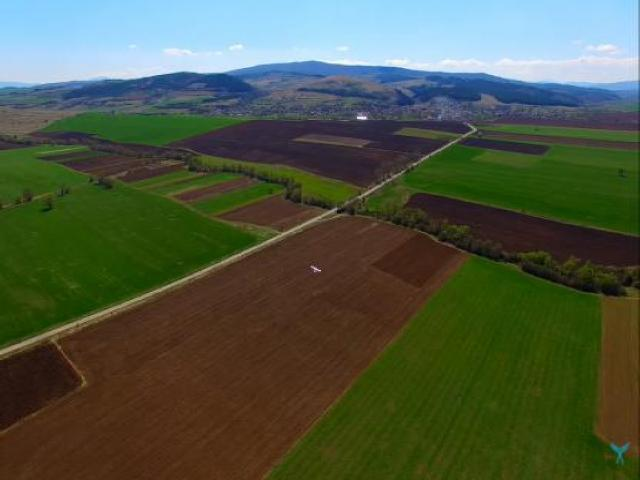uav: (310, 259, 324, 276)
